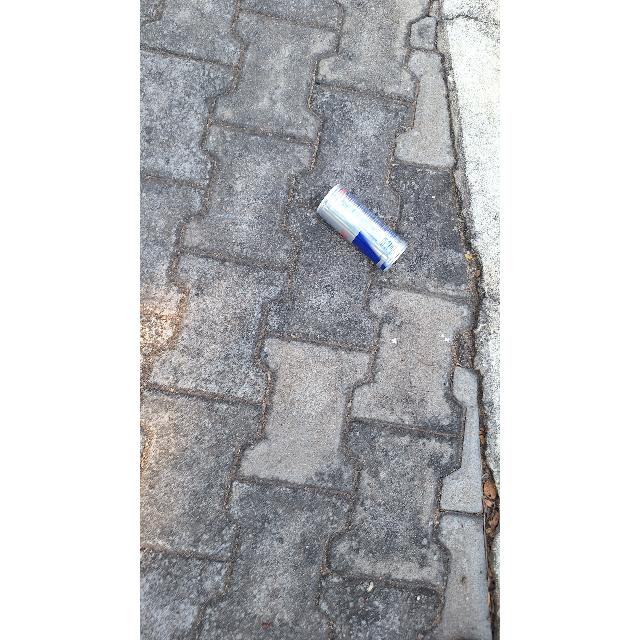Redbull: (316, 182, 406, 264)
